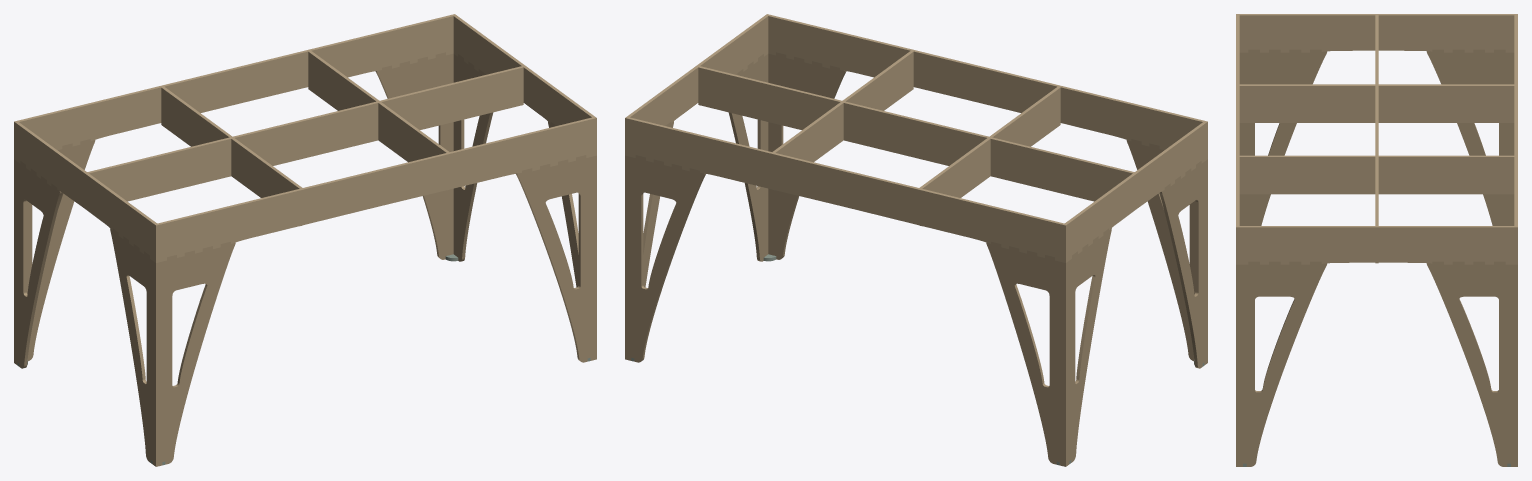
File: FLOW_V31_CANDIDATE_FULL_19_DESIGN_ONLY.glb
The picture shows the model from 3 angles, left to right: view 1: azimuth 30°, elevation 25°; view 2: azimuth 150°, elevation 25°; view 3: azimuth 270°, elevation 25°; orthographic projection.
Visible parts, largest first — view 1: L_south, LC, L_north, SW_LEG_A, SE_LEG_A, W_west, NW_LEG_B, SW_LEG_B, C_2, C_1, NE_LEG_A, W_east (+3 smaller); view 2: L_north, LC, L_south, NW_LEG_A, NE_LEG_A, W_west, SW_LEG_B, NW_LEG_B, C_2, C_1, SE_LEG_A, W_east (+3 smaller); view 3: C_2, C_1, W_east, W_west, NE_LEG_B, SE_LEG_B, NW_LEG_B, SW_LEG_B, L_south, L_north, LC, SE_LEG_A (+1 smaller).
Boxes of the visible parts, left/top/right/bottom form: L_south: left=154, top=117, right=596, bottom=262; LC: left=84, top=66, right=523, bottom=204; L_north: left=14, top=14, right=456, bottom=159; SW_LEG_A: left=154, top=241, right=235, bottom=466; SE_LEG_A: left=516, top=155, right=596, bottom=362; W_west: left=14, top=122, right=159, bottom=261; NW_LEG_B: left=14, top=160, right=62, bottom=368; SW_LEG_B: left=110, top=228, right=159, bottom=465; C_2: left=308, top=51, right=451, bottom=190; C_1: left=161, top=86, right=304, bottom=225; NE_LEG_A: left=375, top=52, right=453, bottom=259; W_east: left=453, top=15, right=596, bottom=150; L_north: left=625, top=117, right=1067, bottom=262; LC: left=698, top=66, right=1137, bottom=204; L_south: left=765, top=14, right=1207, bottom=159; NW_LEG_A: left=986, top=241, right=1067, bottom=466; NE_LEG_A: left=625, top=155, right=705, bottom=362; W_west: left=1062, top=122, right=1207, bottom=261; SW_LEG_B: left=1159, top=160, right=1207, bottom=368; NW_LEG_B: left=1062, top=228, right=1111, bottom=465; C_2: left=770, top=51, right=913, bottom=190; C_1: left=917, top=86, right=1060, bottom=225; SE_LEG_A: left=768, top=52, right=846, bottom=259; W_east: left=625, top=15, right=768, bottom=150; C_2: left=1239, top=155, right=1514, bottom=194; C_1: left=1239, top=84, right=1514, bottom=122; W_east: left=1236, top=226, right=1517, bottom=264; W_west: left=1239, top=14, right=1514, bottom=52; NE_LEG_B: left=1426, top=261, right=1517, bottom=466; SE_LEG_B: left=1236, top=261, right=1327, bottom=466; NW_LEG_B: left=1426, top=49, right=1514, bottom=225; SW_LEG_B: left=1239, top=49, right=1327, bottom=225; L_south: left=1236, top=14, right=1239, bottom=264; L_north: left=1514, top=14, right=1517, bottom=264; LC: left=1375, top=15, right=1378, bottom=263; SE_LEG_A: left=1236, top=264, right=1239, bottom=466.
Bounding box in the file's own units: 0.86 × 0.45 × 0.48.
